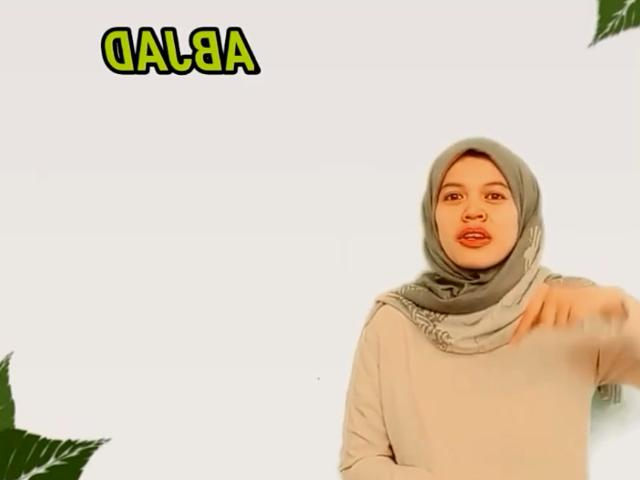Q: (502, 278, 594, 354)
